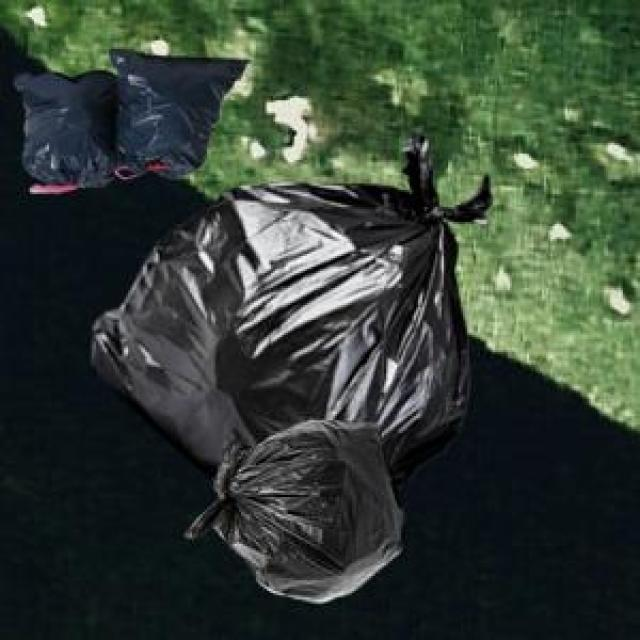Trashbag: (81, 179, 479, 453), (198, 430, 403, 600), (120, 55, 247, 161), (16, 74, 128, 189)
